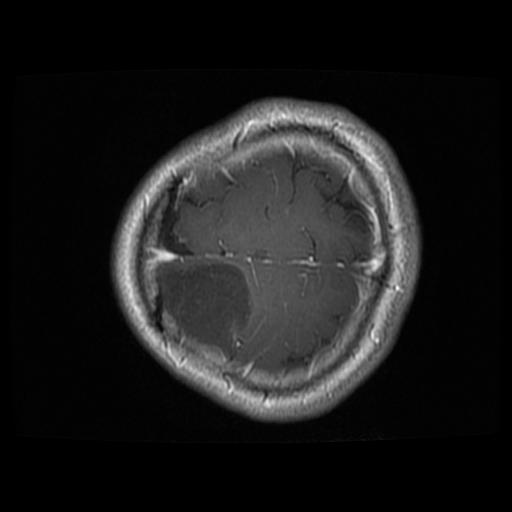glioma: (154, 257, 253, 363)
